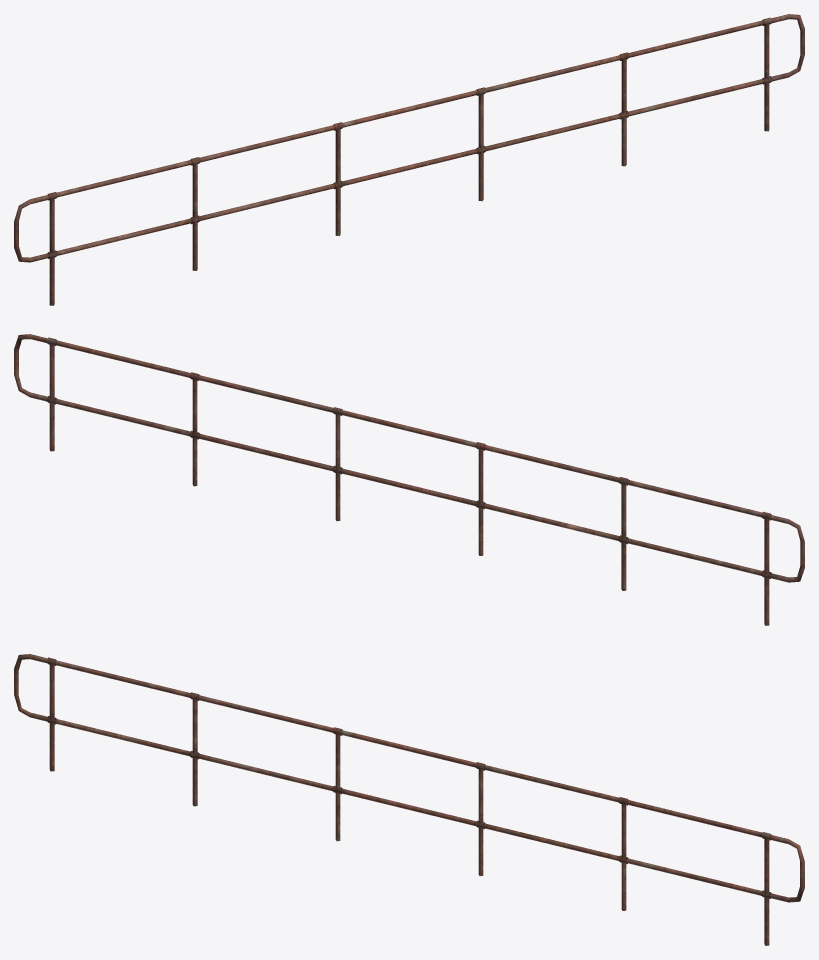
File: MetalRailings.FBX
3 views of the same model, one above another, from view 1: azimuth 30°, elevation 25°; view 2: azimuth 150°, elevation 25°; view 3: azimuth 330°, elevation 25° (orthographic).
Visible parts, largest first — view 1: MetalRailings; view 2: MetalRailings; view 3: MetalRailings.
Boxes of the visible parts, x1,y1,x2,y2 form: MetalRailings: (14, 14, 804, 305); MetalRailings: (14, 334, 804, 625); MetalRailings: (14, 654, 804, 945).
Size of the model in its own units: 680 by 92.23 by 5.75.
